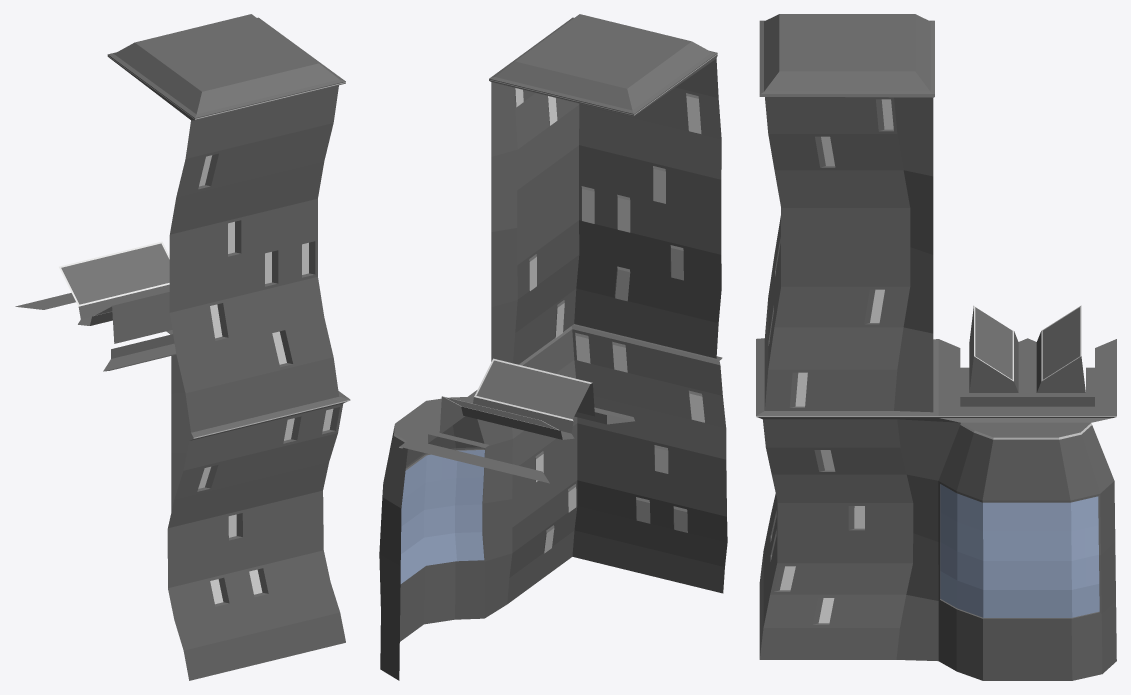
The model's file is BackgrounfBuilding5.fbx.
3 renders of one model, left to right at view 1: azimuth 30°, elevation 25°; view 2: azimuth 150°, elevation 25°; view 3: azimuth 270°, elevation 25°, orthographic. The views are drawn at different scales.
Parts seen in each view (by area): view 1: Cube; view 2: Cube; view 3: Cube.
Boxes of the visible parts, bbox=[...] form: Cube: bbox=[15, 14, 350, 680]; Cube: bbox=[379, 14, 727, 680]; Cube: bbox=[756, 14, 1116, 680].
Size of the model in its own units: 272 by 702 by 396.
